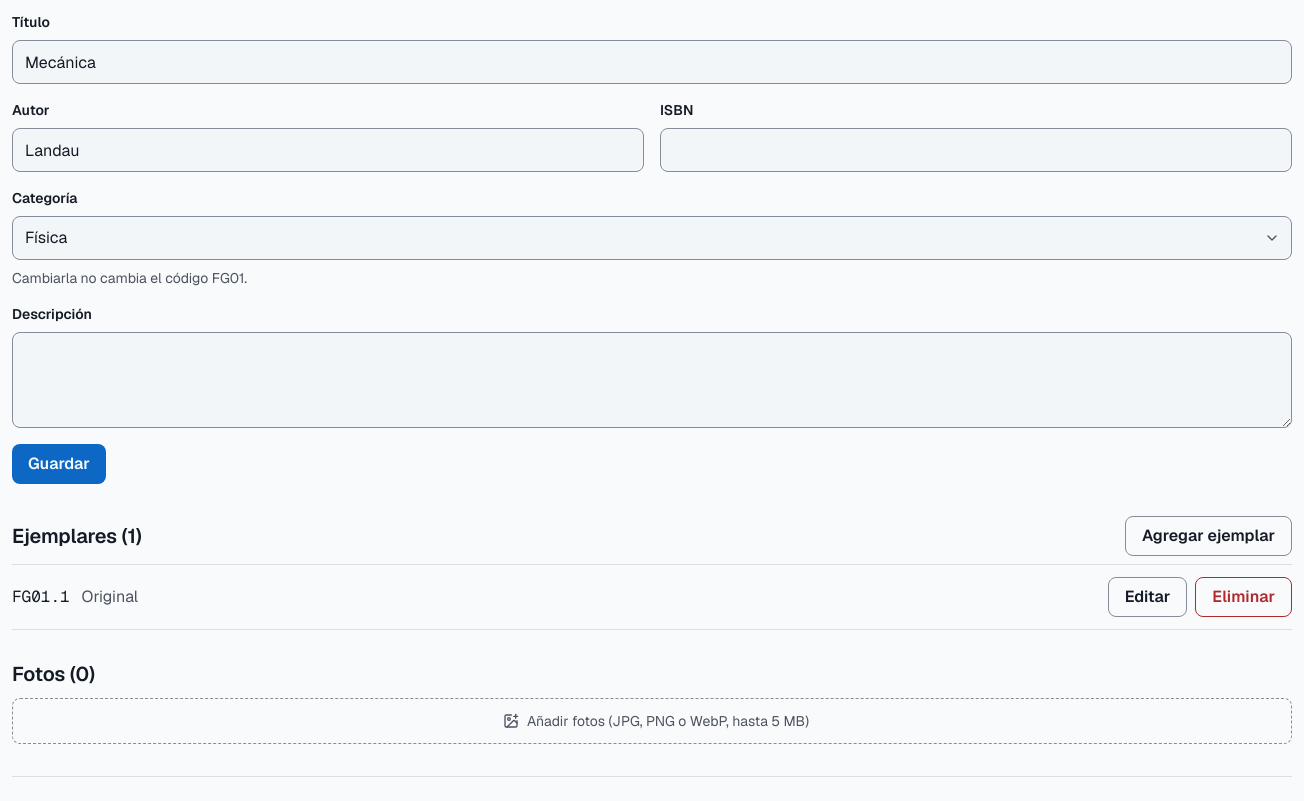
Scenario: BookEditor › shows a refused save above Guardar and keeps what was typed
The image size is (1304, 801).
Type "9780750628969" into the field labelled "ISBN" at (976, 150), box [660,128,1292,172]
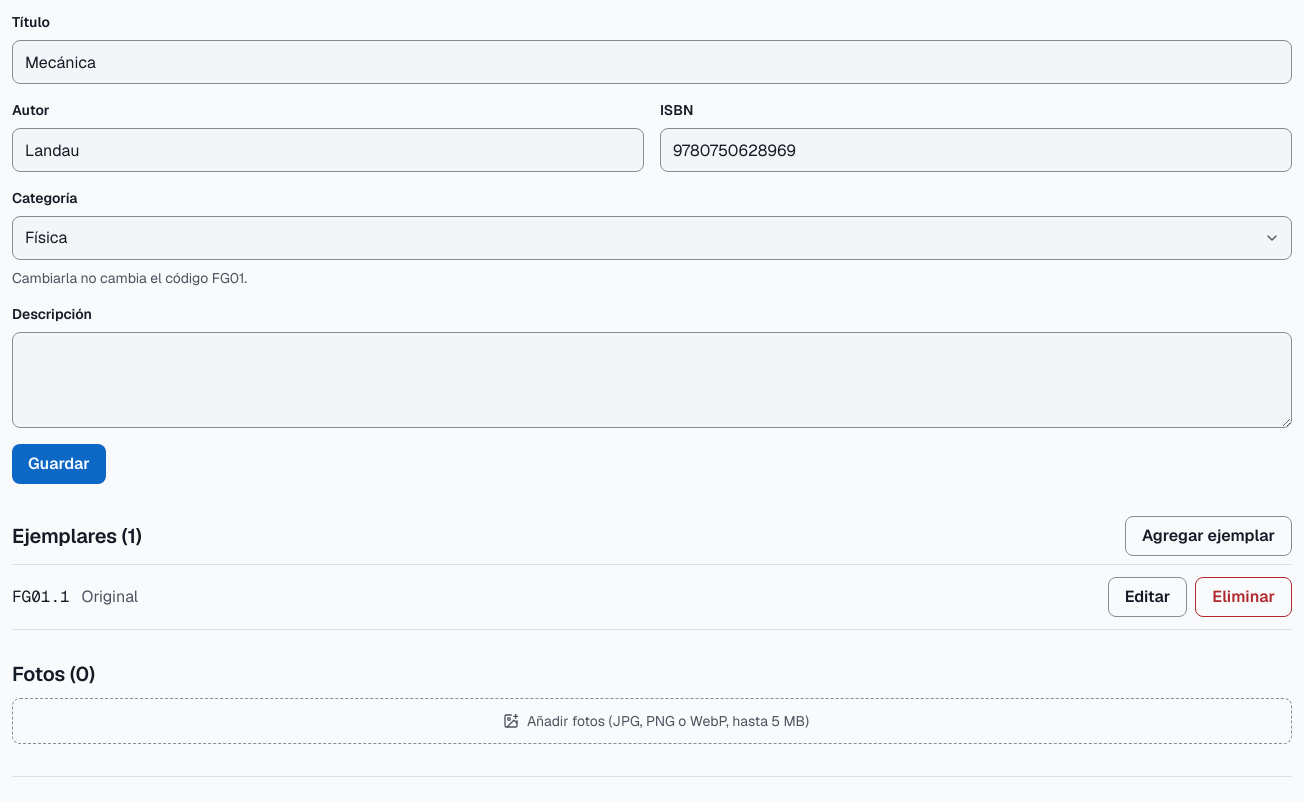
Click the button "Guardar" at (59, 464), box [12,444,106,484]
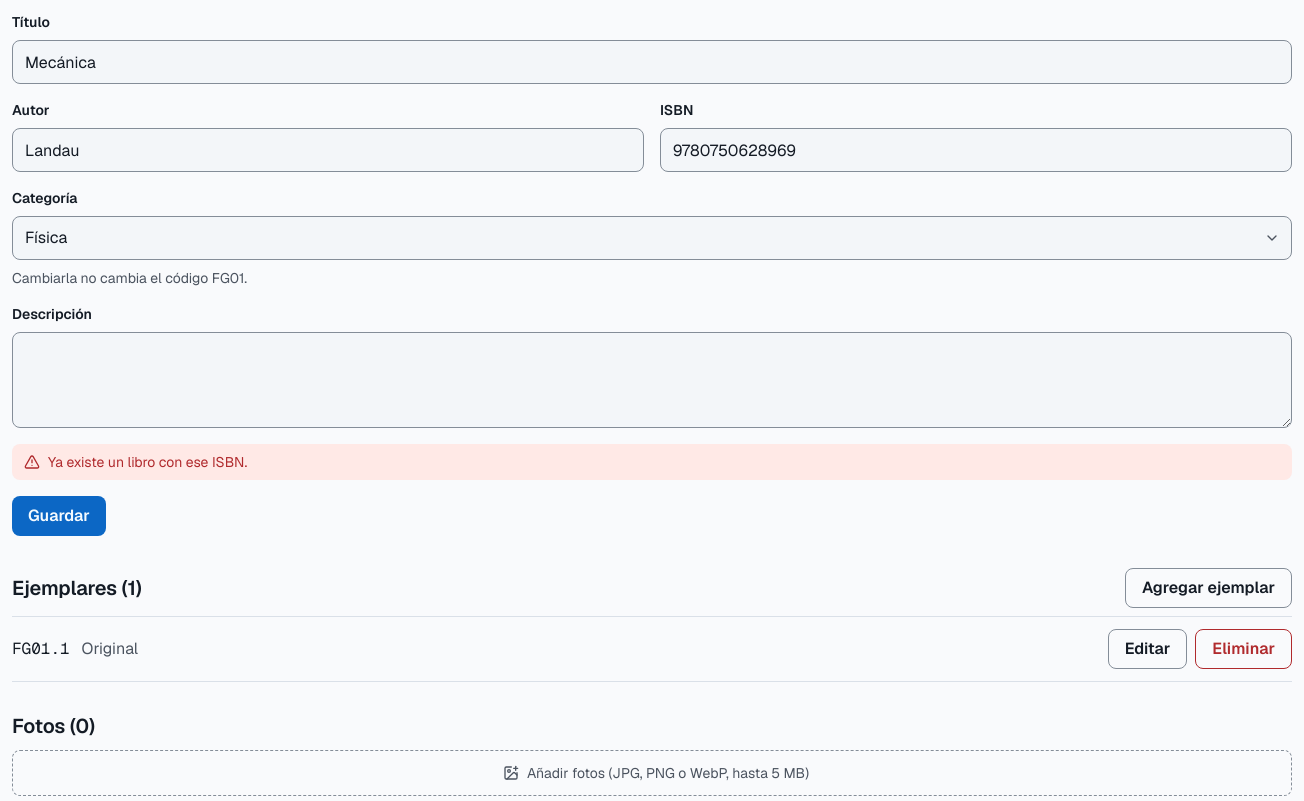
Now the message shows "Ya existe un libro", box [48,453,247,471]
